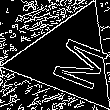M_NW: (34, 27, 103, 90)
